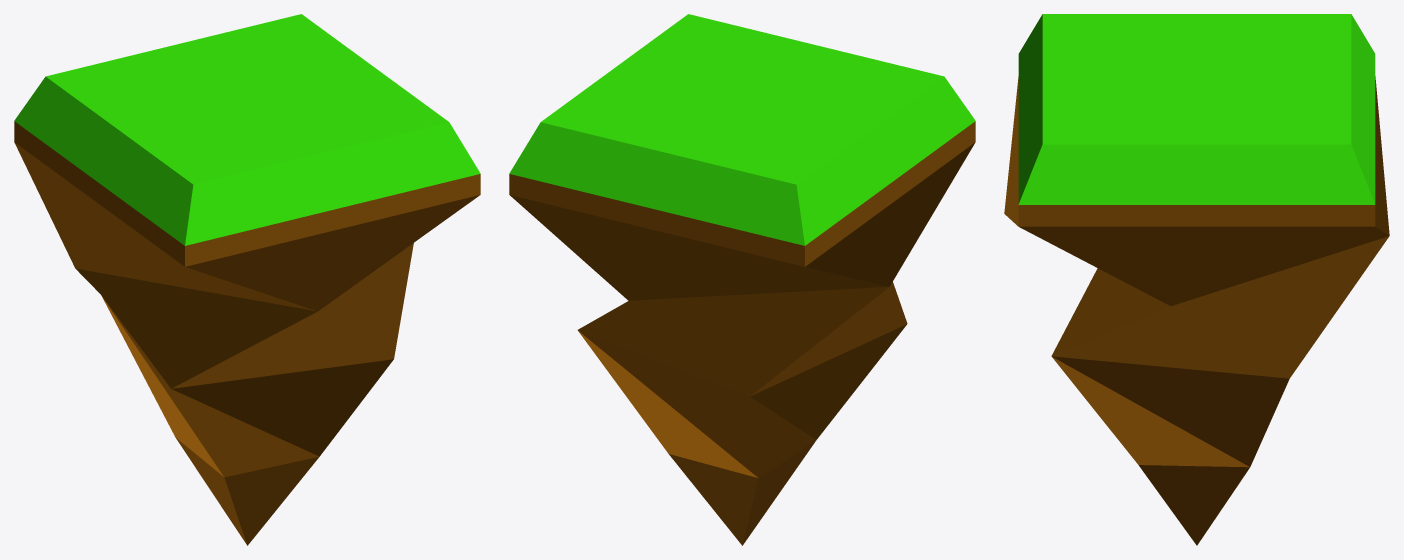
The model's file is Platform.fbx.
The picture shows the model from 3 angles, left to right: view 1: azimuth 30°, elevation 25°; view 2: azimuth 150°, elevation 25°; view 3: azimuth 270°, elevation 25°; orthographic projection. The views are drawn at different scales.
Visible parts, largest first — view 1: Cube; view 2: Cube; view 3: Cube.
Boxes of the visible parts, x1=… form: Cube: x1=14, y1=14, x2=480, y2=545; Cube: x1=509, y1=14, x2=975, y2=545; Cube: x1=1004, y1=14, x2=1389, y2=545.
Bounding box in the file's own units: 216 × 289 × 216.
